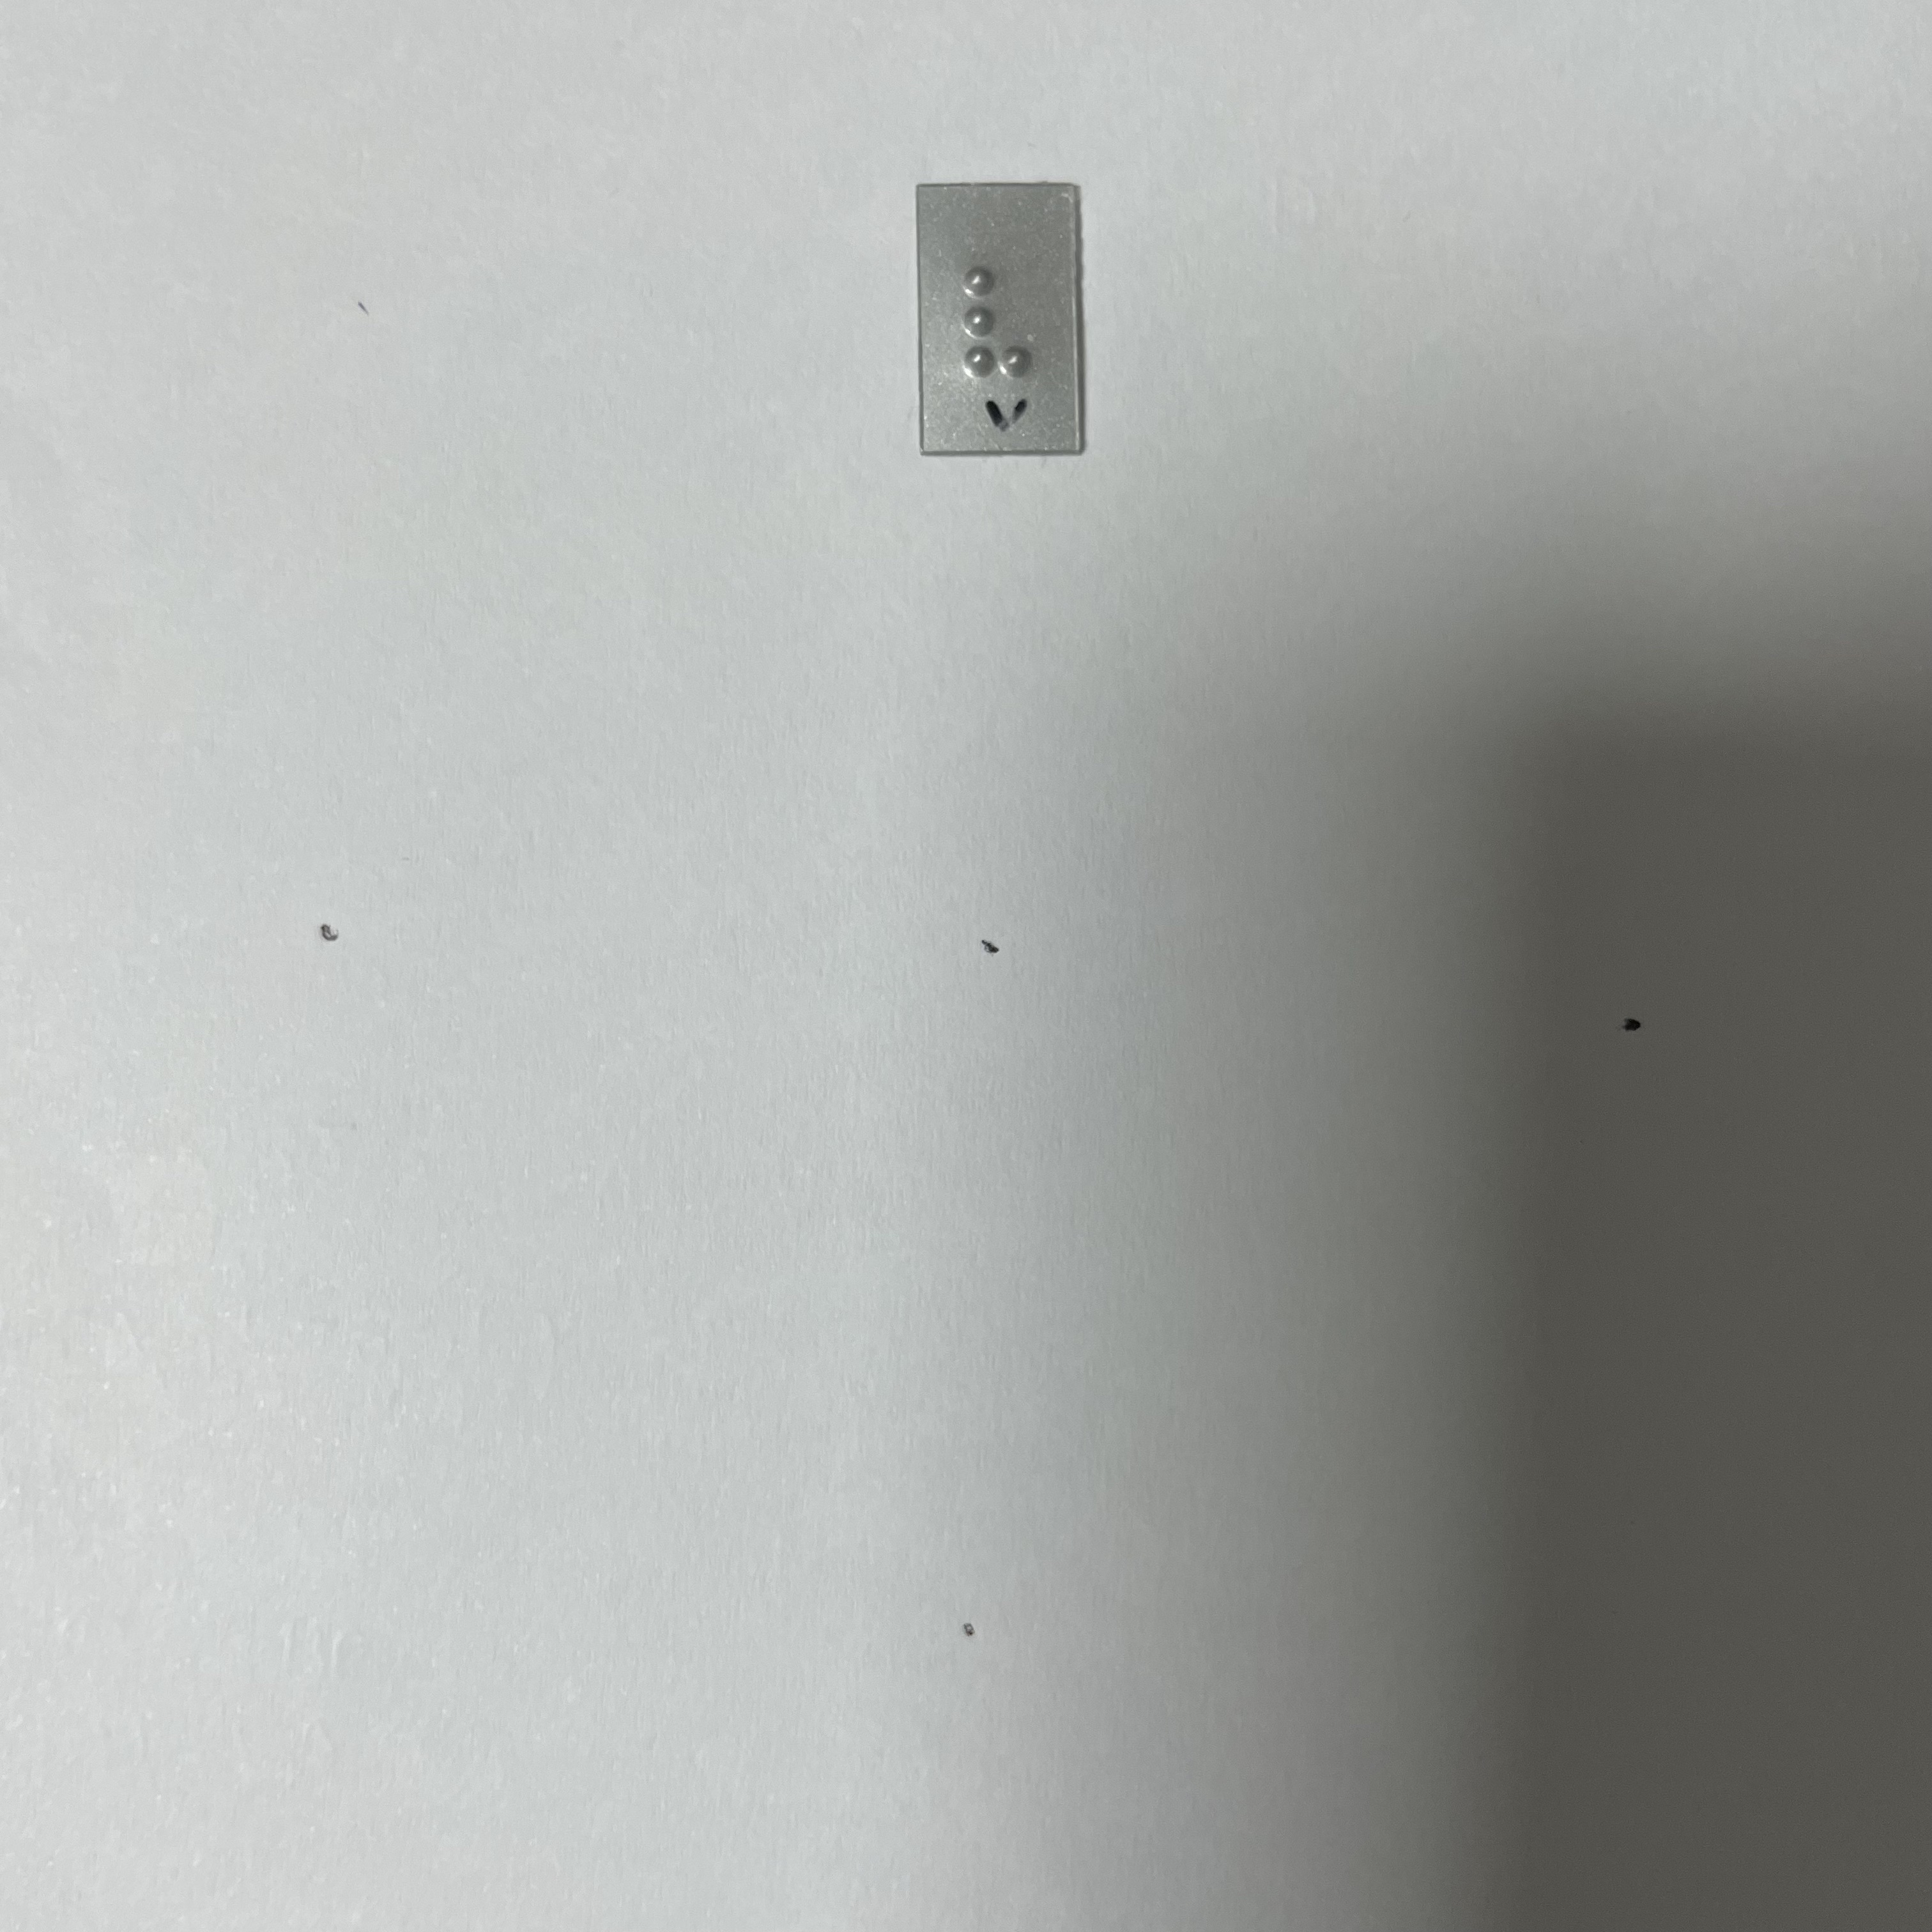v: (947, 249, 1053, 391)
